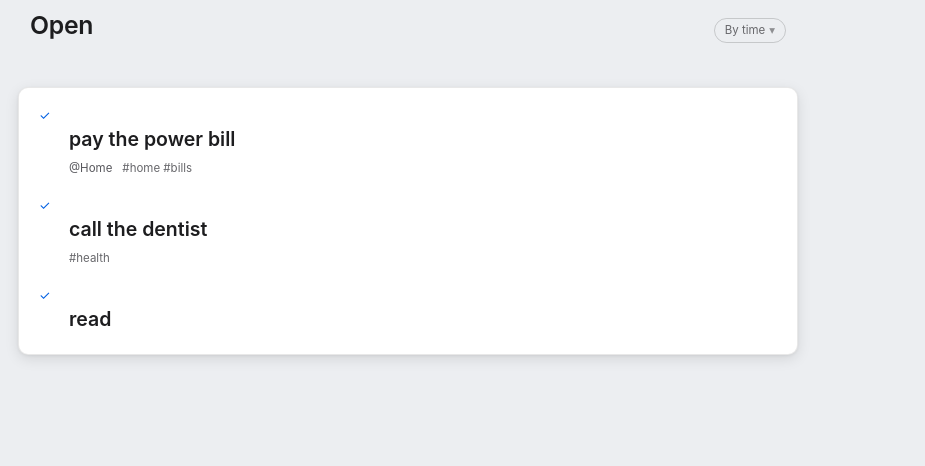
Scenario: grouping the open tasks › folds a group away and opens it again
The width and height of the screenshot is (925, 466).
Click the button with aria-label "Grouped by" at (750, 30), box [714,18,786,43]
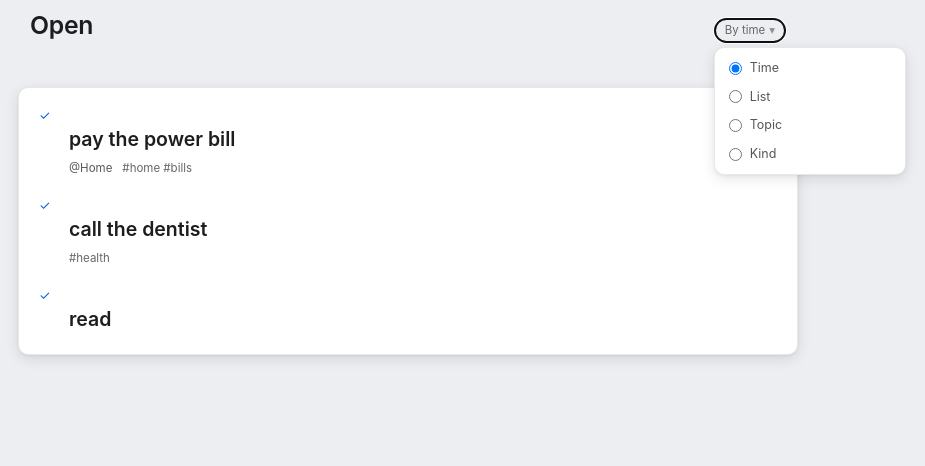
Click the radio button labelled "List" at (735, 97), box [729,90,742,103]
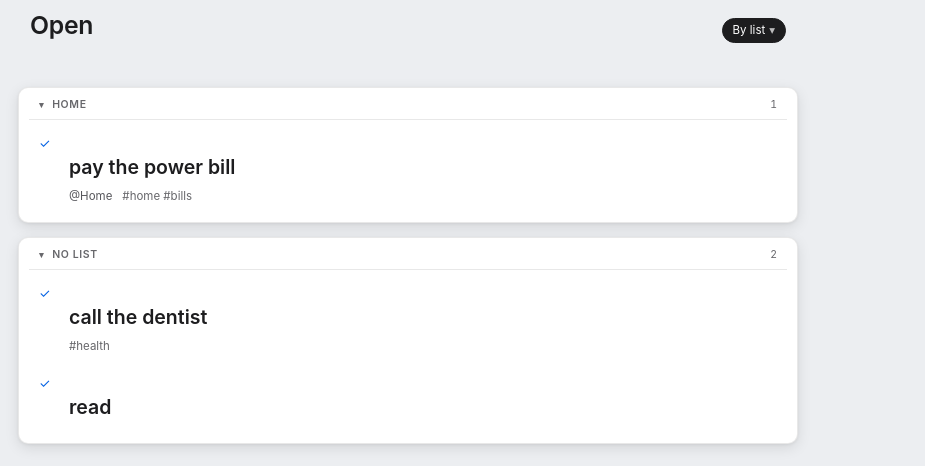
Click the button "▾ Home 1" at (69, 104), box [29,96,787,120]
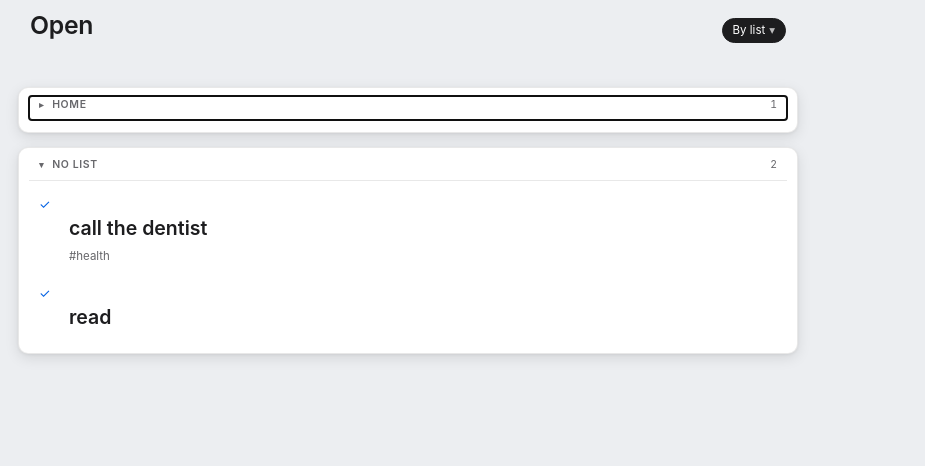
Expected: the heading "read" is shown, [69,305,111,329]
Expected: the heading "pay the power bill" is gone
